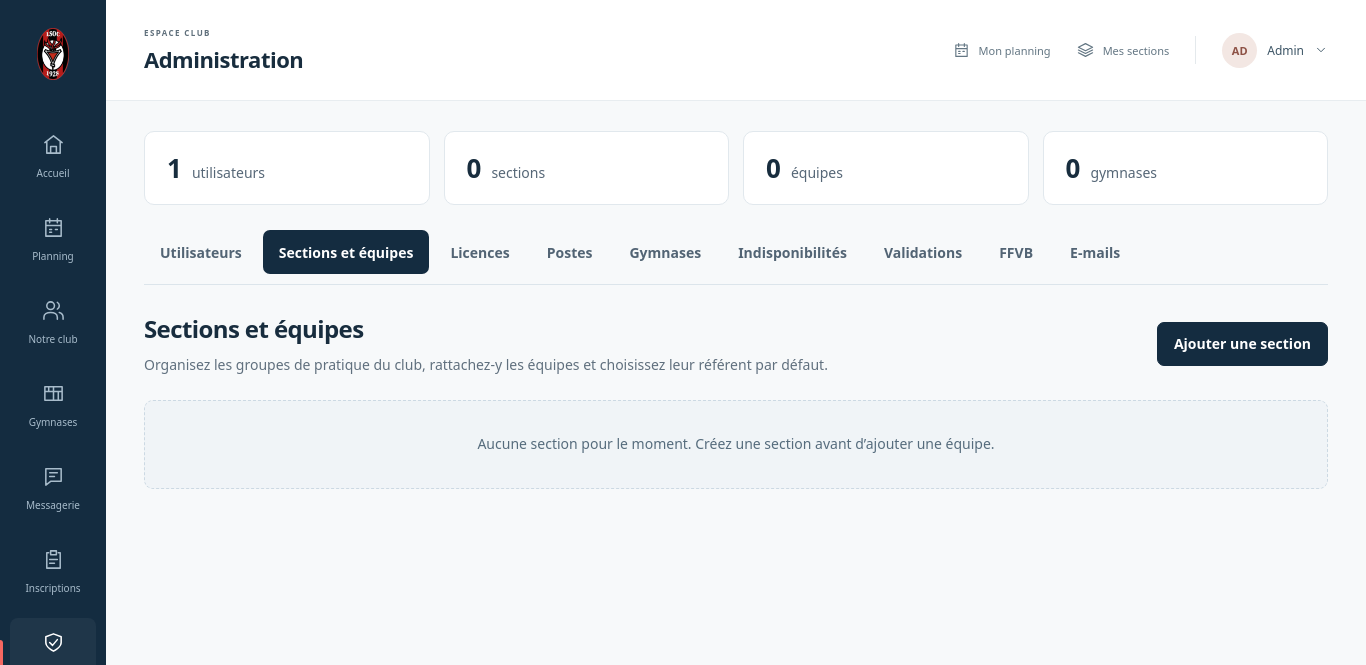
Test: revient à la connexion si la session expire pendant une création
Click the button "Ajouter une section" at (1242, 344), box [1157, 322, 1328, 366]
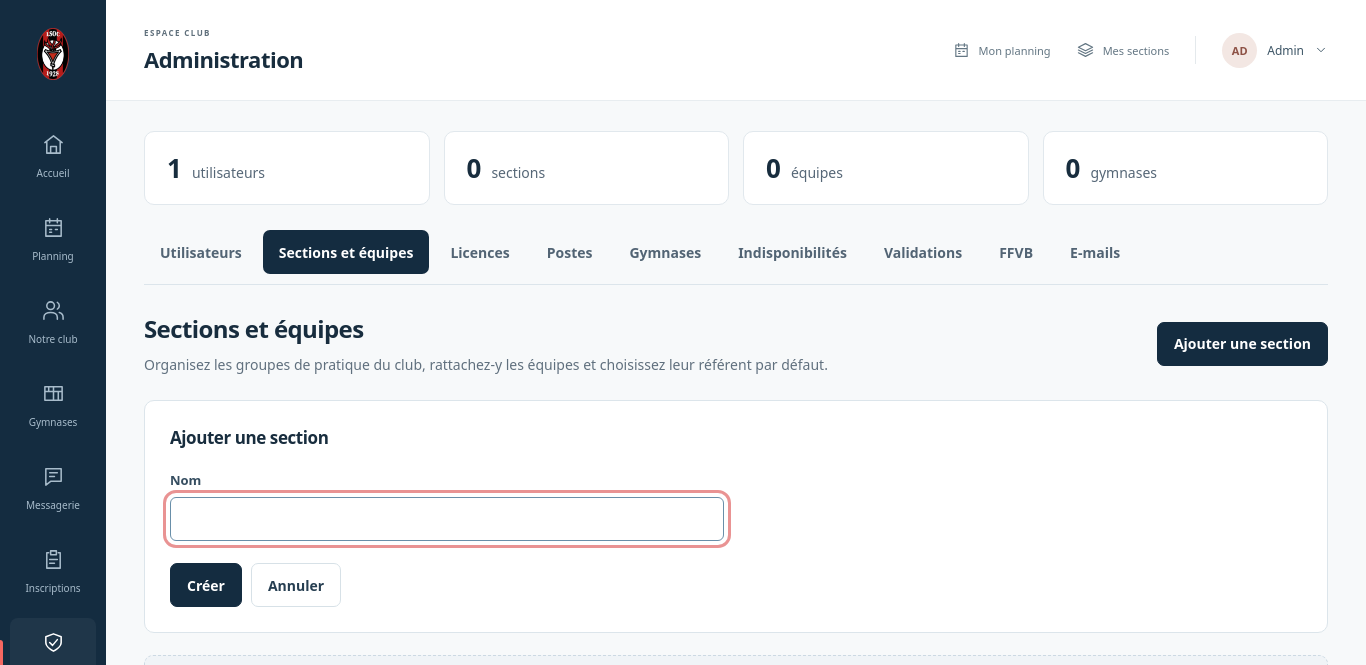
Type "Loisir" into the field labelled "Nom" at (447, 519), box [170, 497, 724, 541]
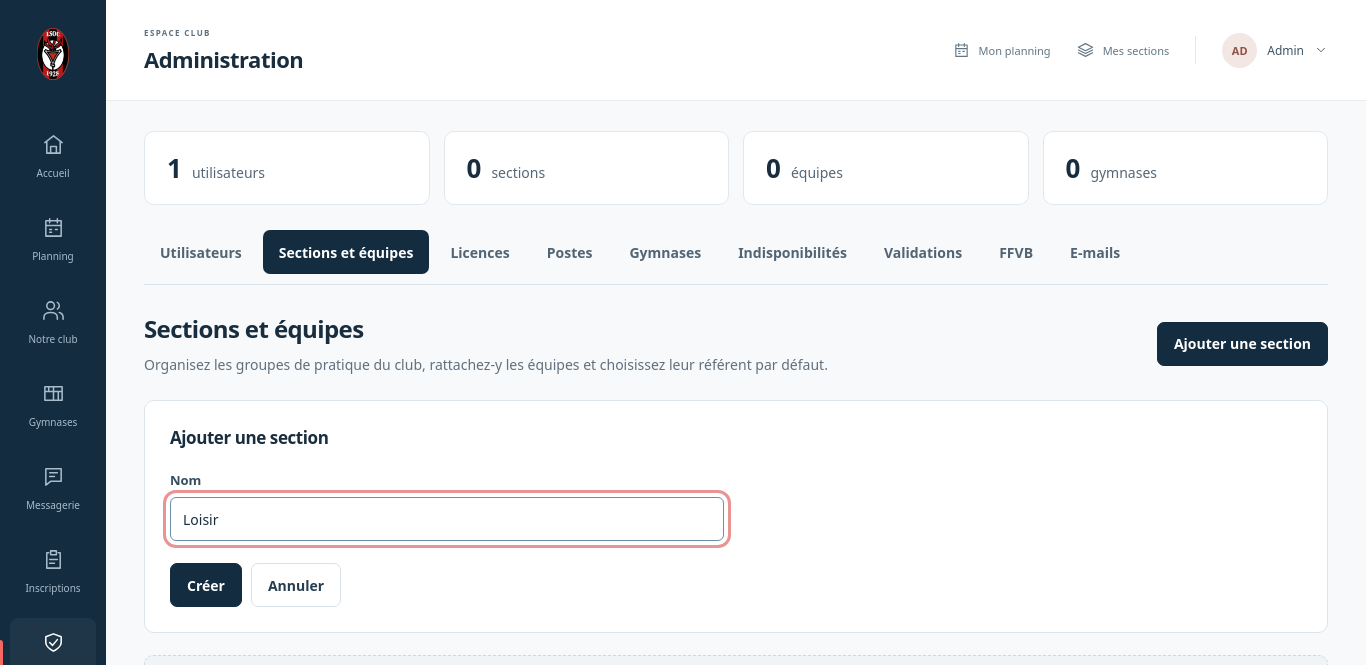
Click the button "Créer" at (206, 585), box [170, 563, 242, 607]
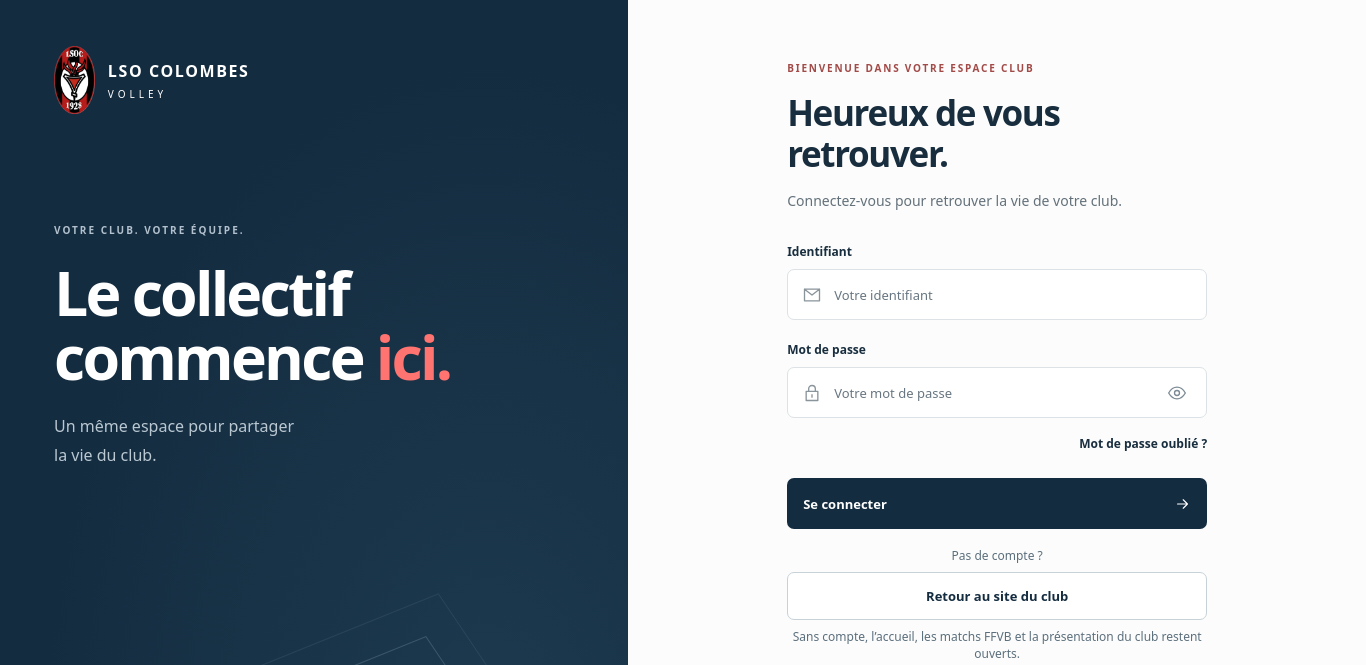
Now the button "Se connecter" is shown, box [787, 478, 1207, 529]
